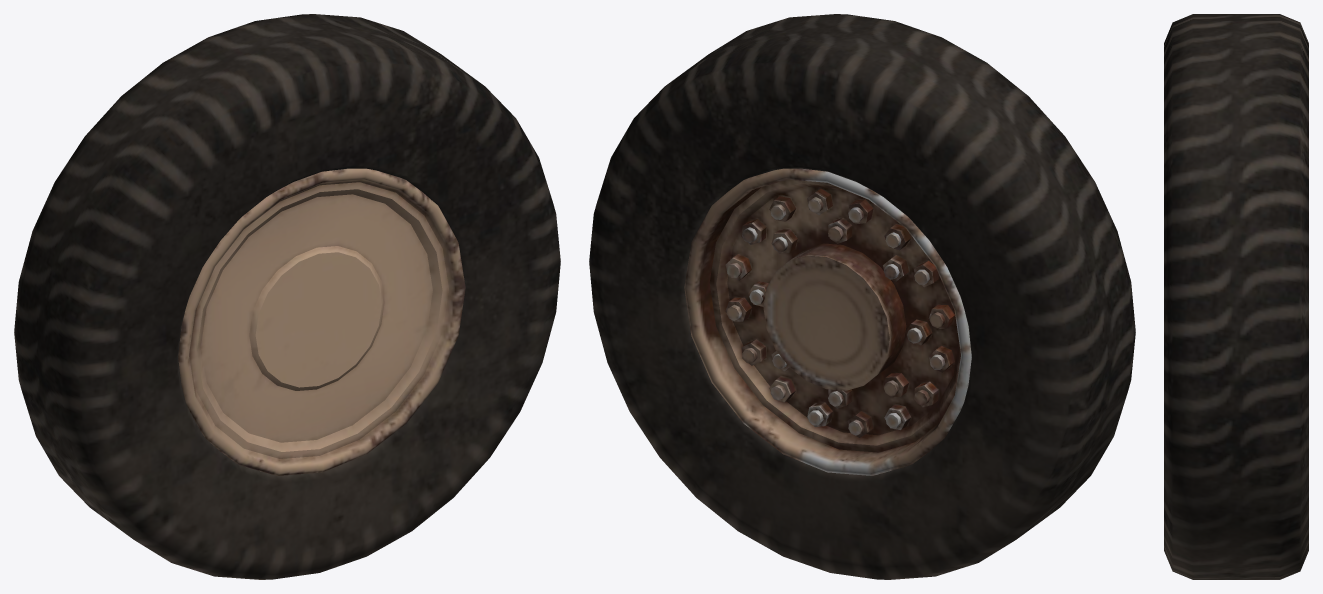
Rendered from Wheel.gltf.
3 views of the same model, side by side, from view 1: azimuth 30°, elevation 25°; view 2: azimuth 150°, elevation 25°; view 3: azimuth 270°, elevation 25° (orthographic).
Parts seen in each view (by area): view 1: defaultMaterial.284, defaultMaterial.285; view 2: defaultMaterial.284, defaultMaterial.283; view 3: defaultMaterial.284.
Part boxes in pixels (x1,y1,x2,y2): defaultMaterial.284: (14, 14, 560, 579); defaultMaterial.285: (178, 168, 465, 475); defaultMaterial.284: (589, 14, 1135, 579); defaultMaterial.283: (684, 168, 971, 475); defaultMaterial.284: (1164, 14, 1308, 579).
Bounding box in the file's own units: 0.8601 × 0.8603 × 0.2199.
Materials: 1 (1 with a texture image).
